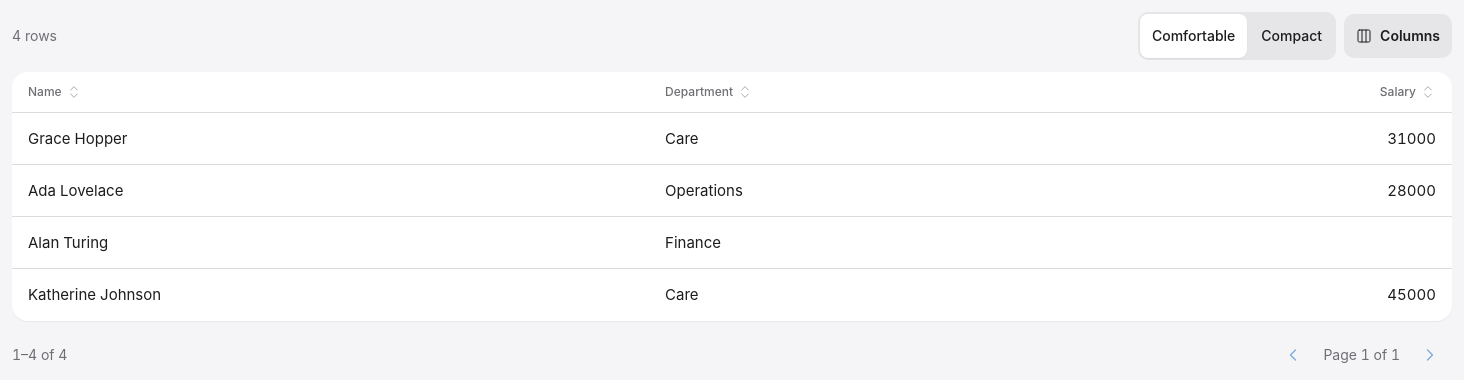
Test: DataTable sorting › starts in the order given, then sorts ascending, descending, and back
Step 1. Click the button "Name" → (55, 92), box [28, 84, 82, 100]
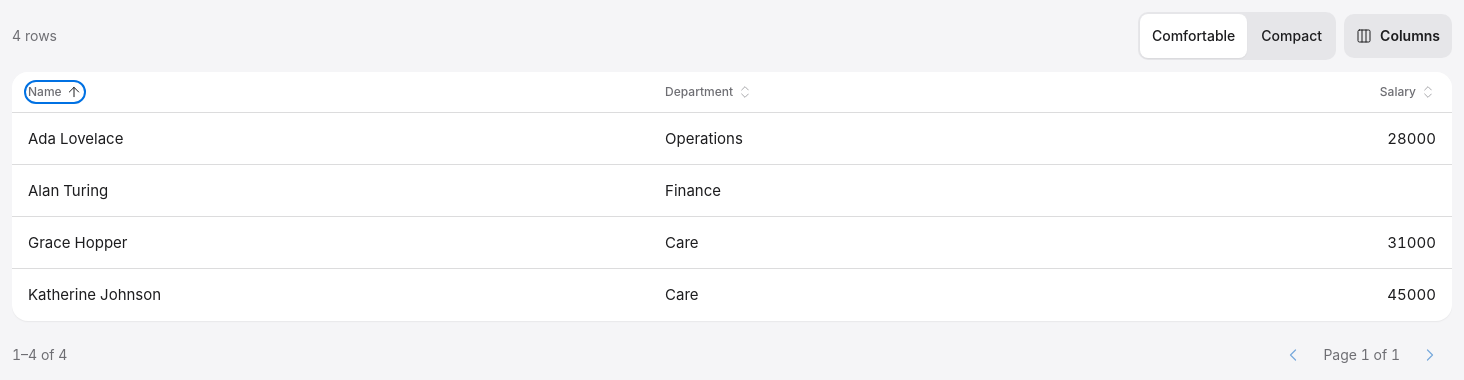
Expected: the column heading "Name" has attribute aria-sort="ascending", [12, 72, 649, 112]
Step 2. Click the button "Name" → (55, 92), box [28, 84, 82, 100]
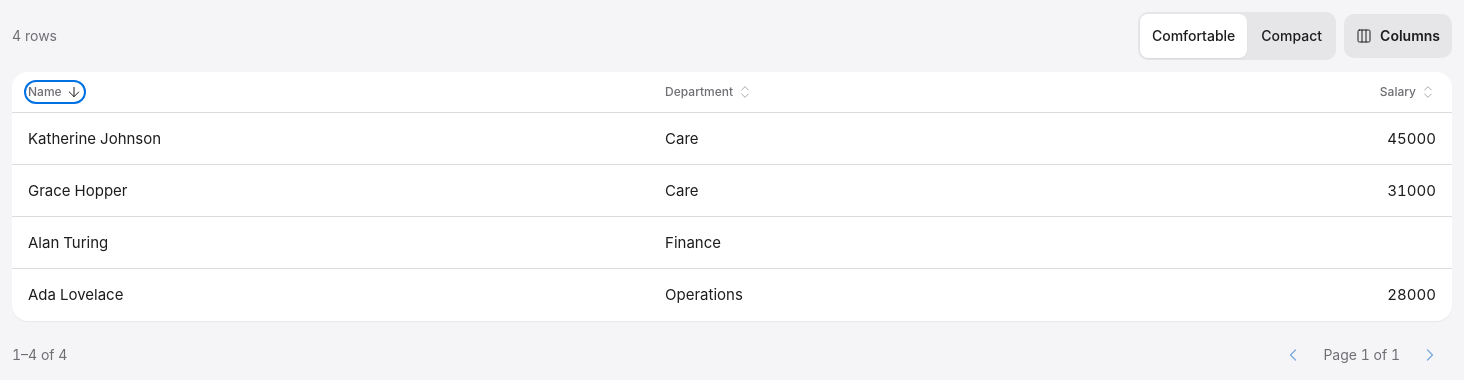
Expected: the column heading "Name" has attribute aria-sort="descending", [12, 72, 649, 112]
Step 3. Click the button "Name" → (55, 92), box [28, 84, 82, 100]
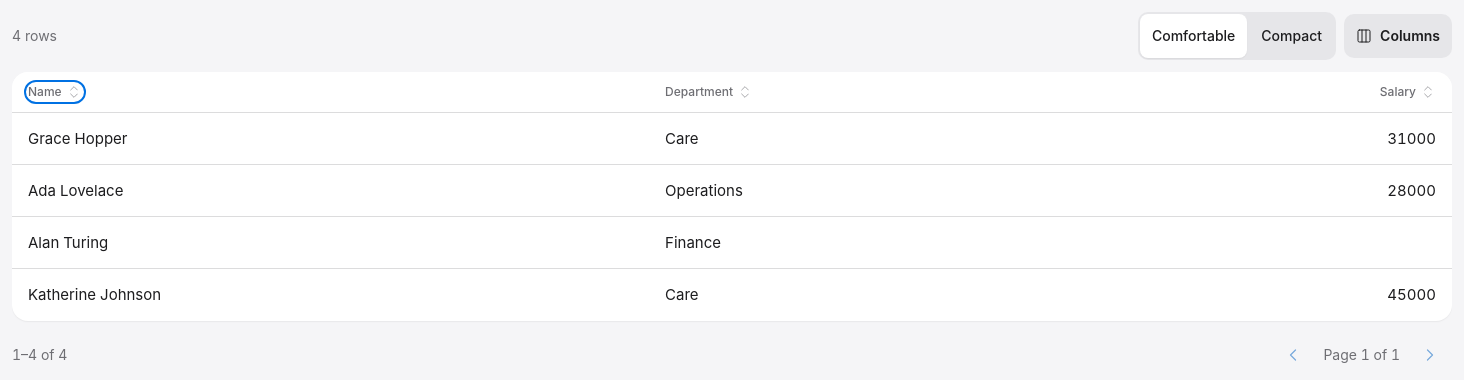
Expected: the column heading "Name" has attribute aria-sort="none", [12, 72, 649, 112]
